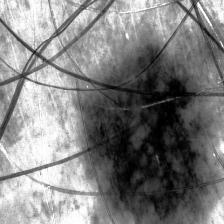Benign Marking or Mole: (80, 71, 203, 218)
